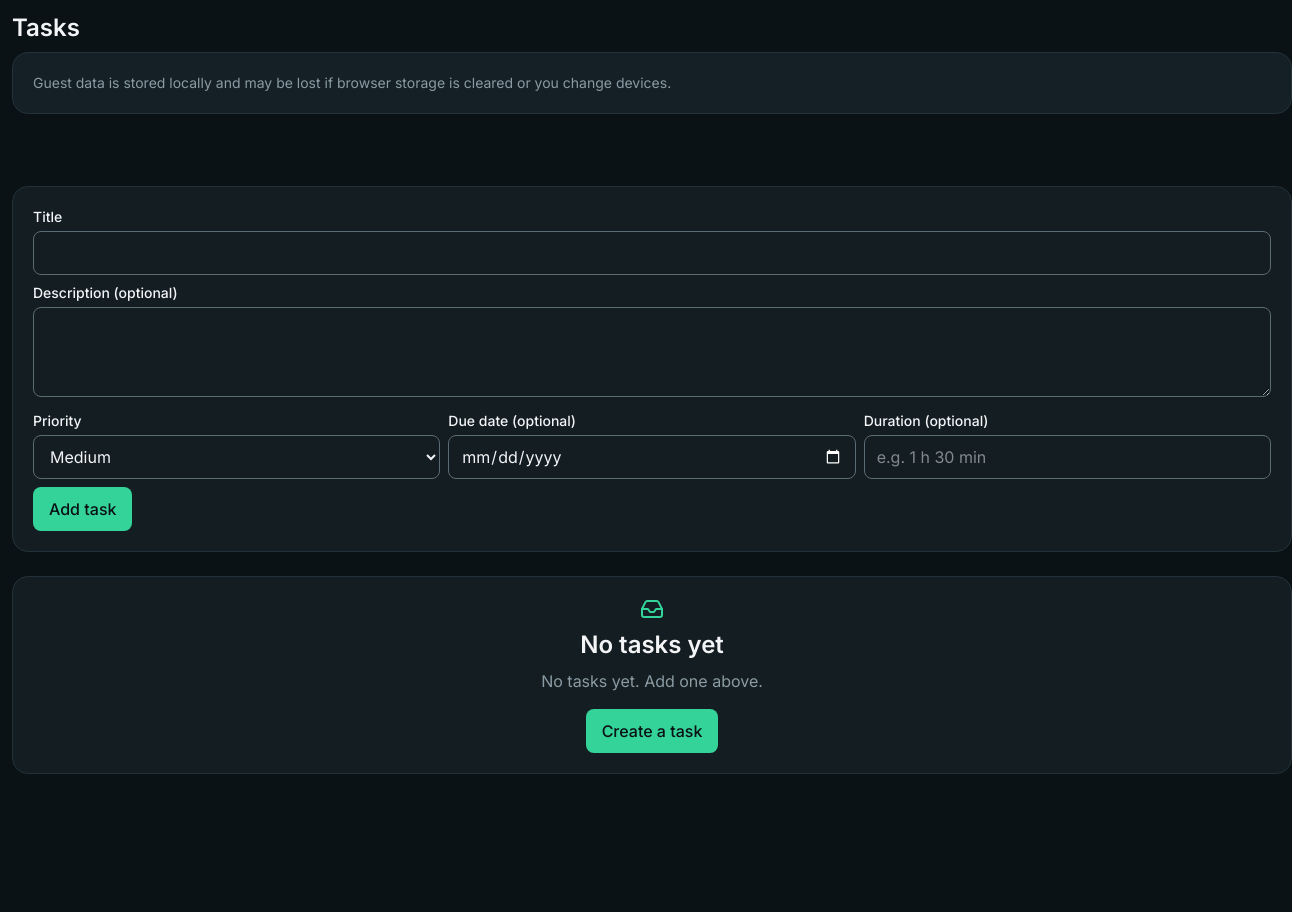
Test: create form accessibility › associates a single title error with its input and announces it
Type "ab" into the field labelled "Title" at (652, 253), box [33, 231, 1271, 275]
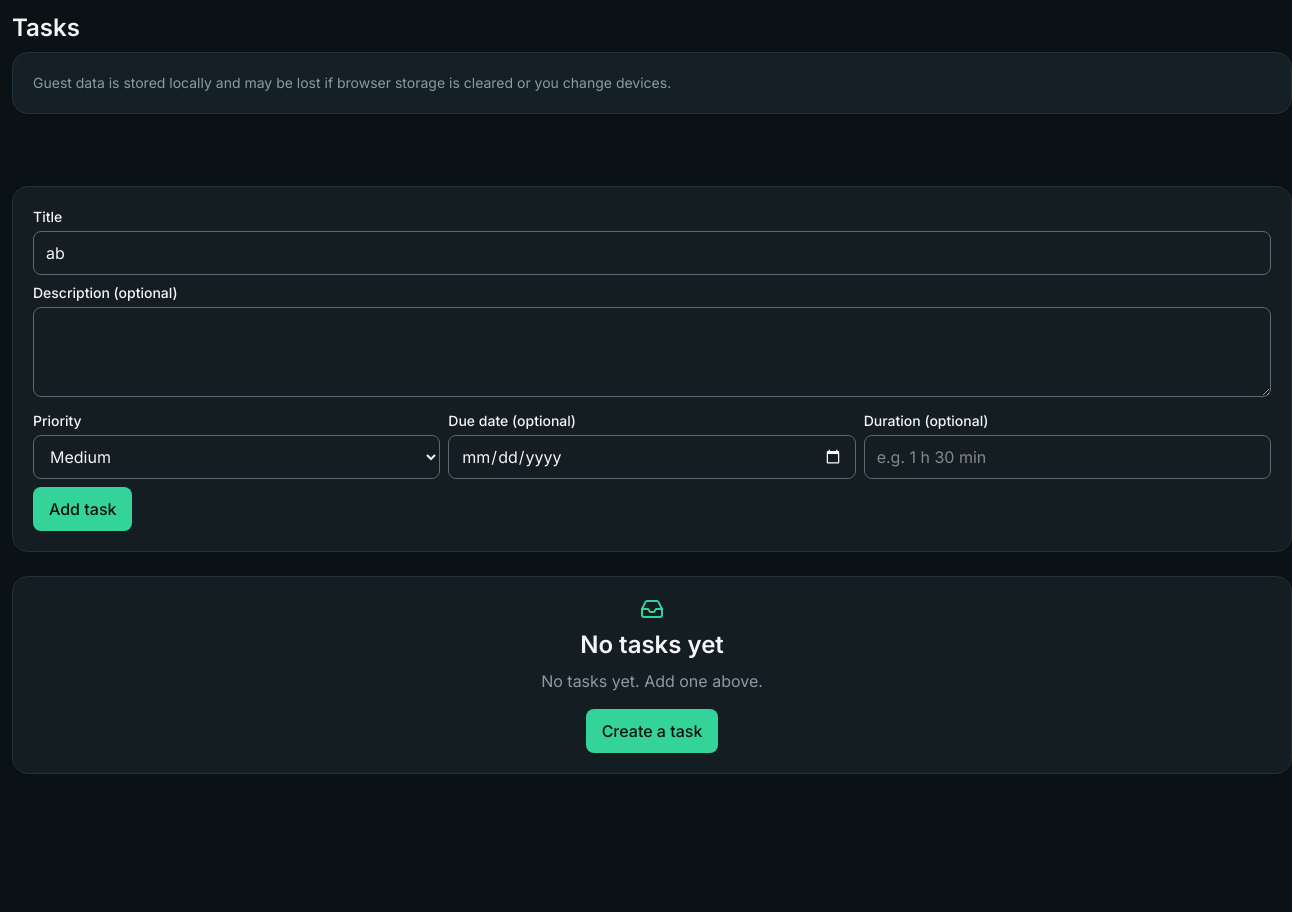
Click the button "Add task" at (83, 509), box [33, 487, 132, 531]
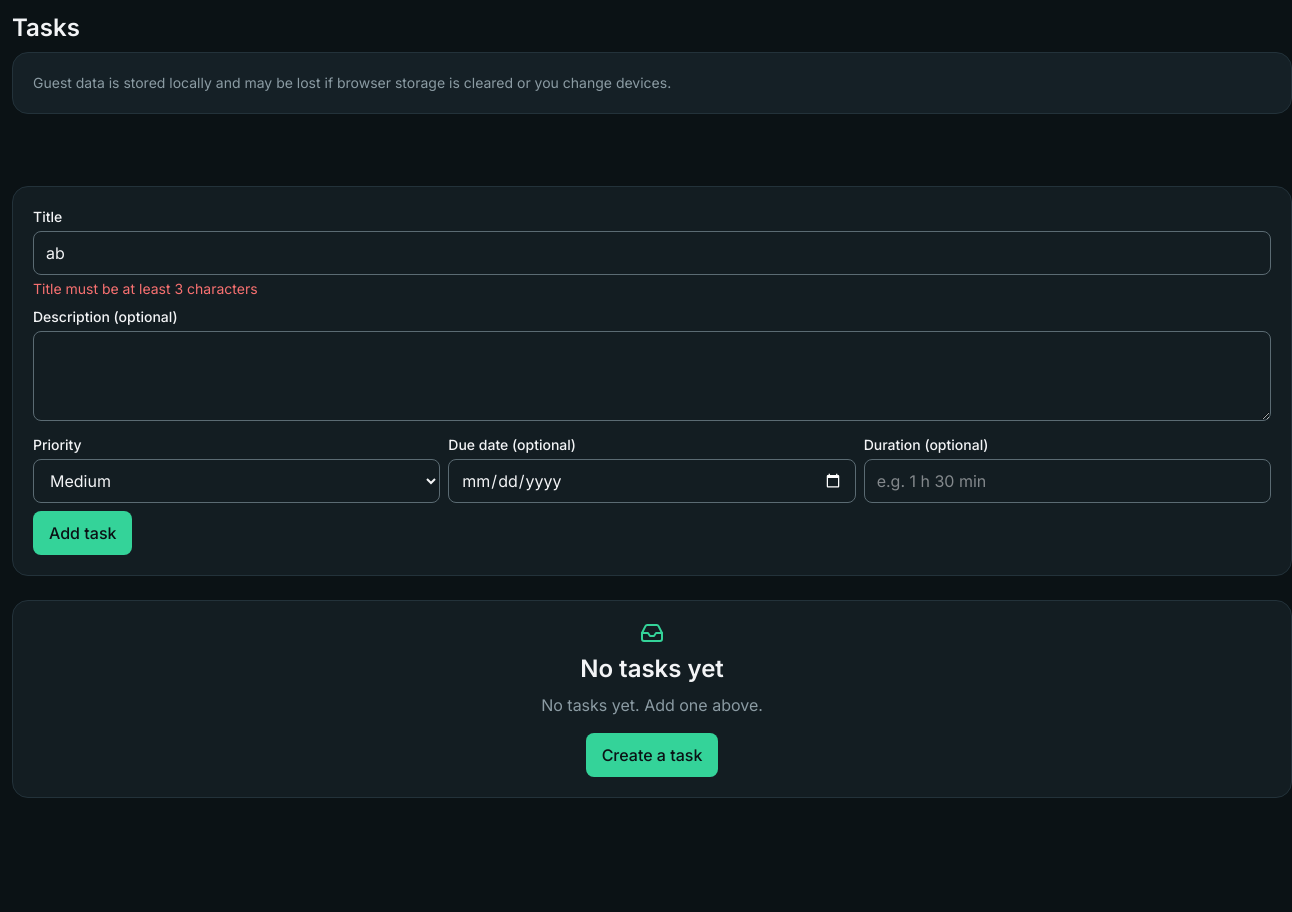
expect the message "Title must be at least 3 characters" is shown: met, box [33, 280, 258, 297]
